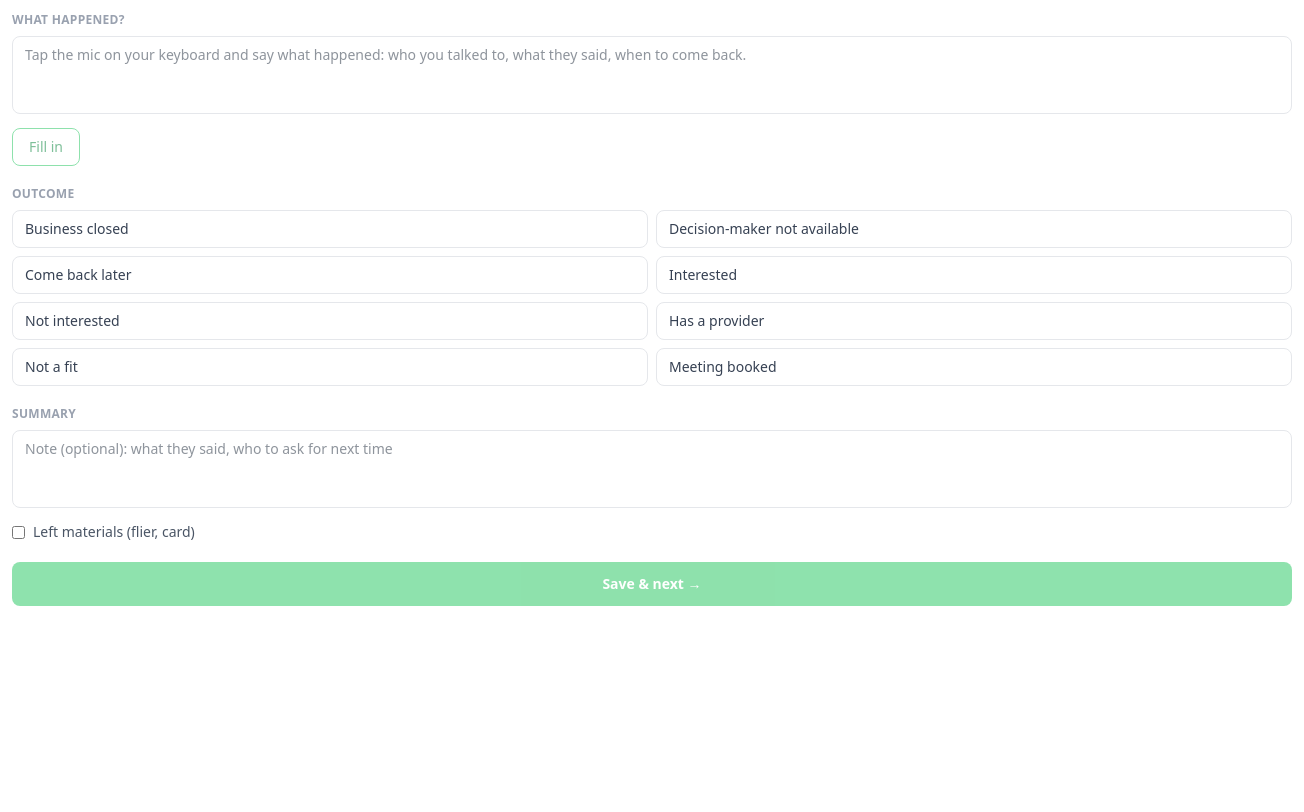
Test case: LogVisitForm: Fill in › says so when it can't fill in, and keeps the note
Step 1. Type "spoke with jen" into the text box labelled "What happened?" → (652, 75), box x1=12 y1=36 x2=1292 y2=114
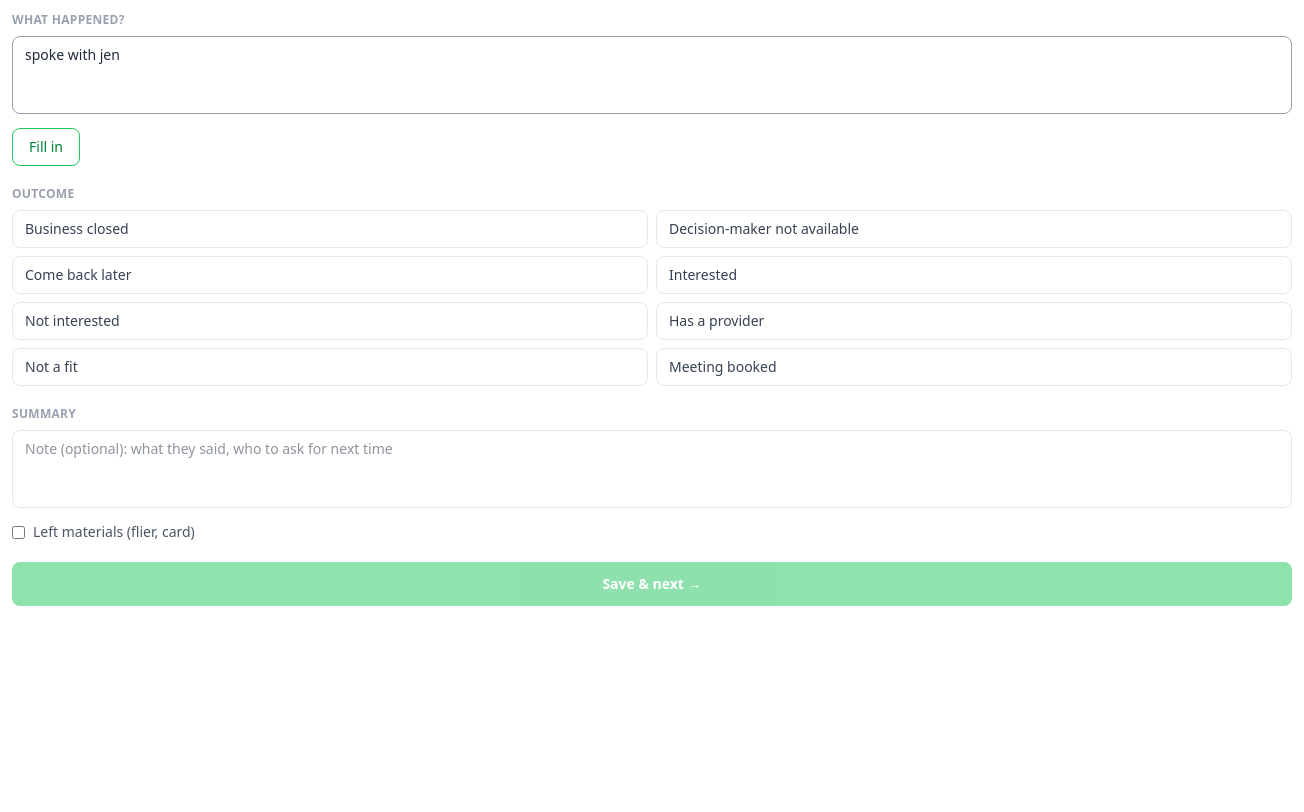
Step 2. Click the button "Fill in" → (46, 147), box x1=12 y1=128 x2=80 y2=166
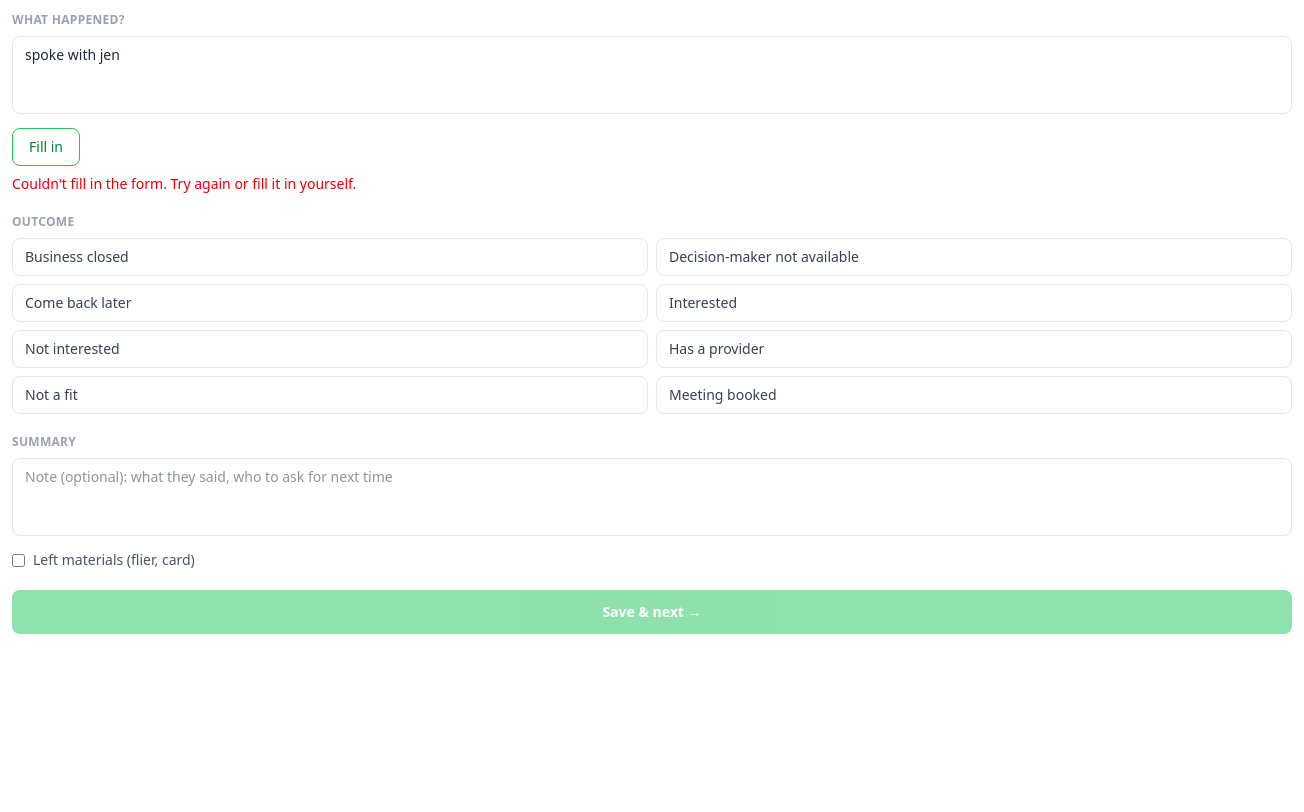
Check: the text "Couldn't fill in the form. Try again or fill it in yourself." is shown, box x1=12 y1=174 x2=356 y2=193
